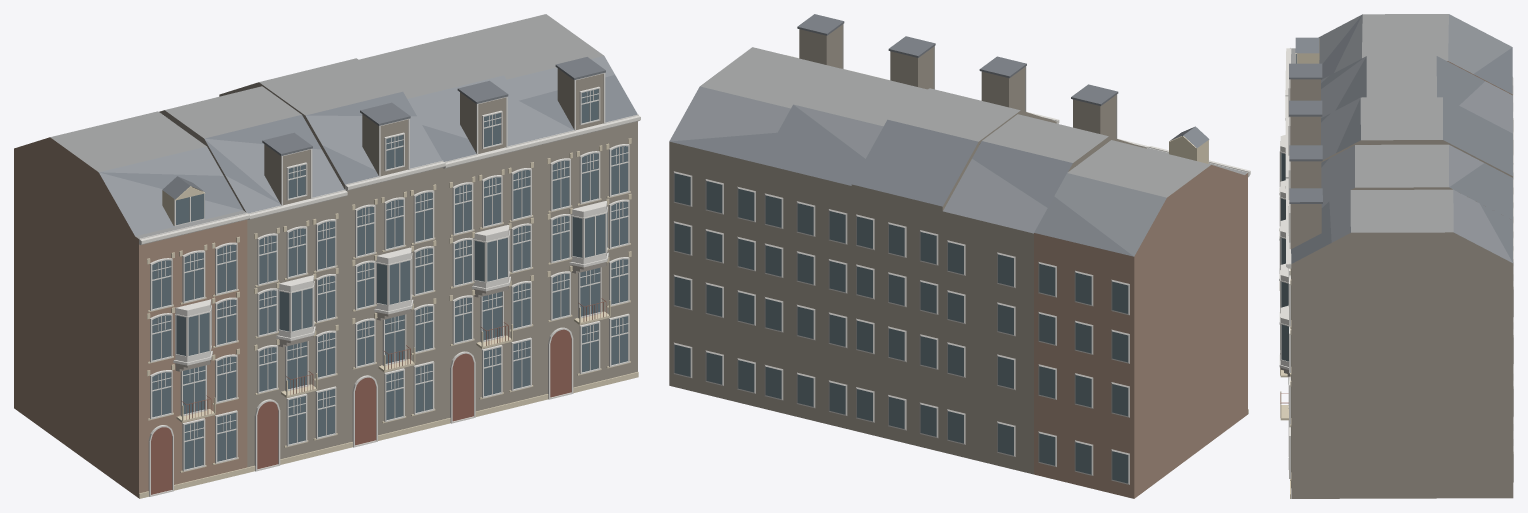
Rendered from chunk-face-wouwerman-2-44-r1.glb.
3 views of the same model, side by side, from view 1: azimuth 30°, elevation 25°; view 2: azimuth 150°, elevation 25°; view 3: azimuth 270°, elevation 25° (orthographic). The views are drawn at different scales.
Visible parts, largest first — view 1: face-wouwerman-2-44-r1; view 2: face-wouwerman-2-44-r1; view 3: face-wouwerman-2-44-r1.
Boxes of the visible parts, <box> form: face-wouwerman-2-44-r1: <box>14,14,640,498</box>; face-wouwerman-2-44-r1: <box>669,14,1250,498</box>; face-wouwerman-2-44-r1: <box>1279,14,1513,498</box>.
Bounding box in the file's own units: 30.75 × 18.62 × 13.93.
